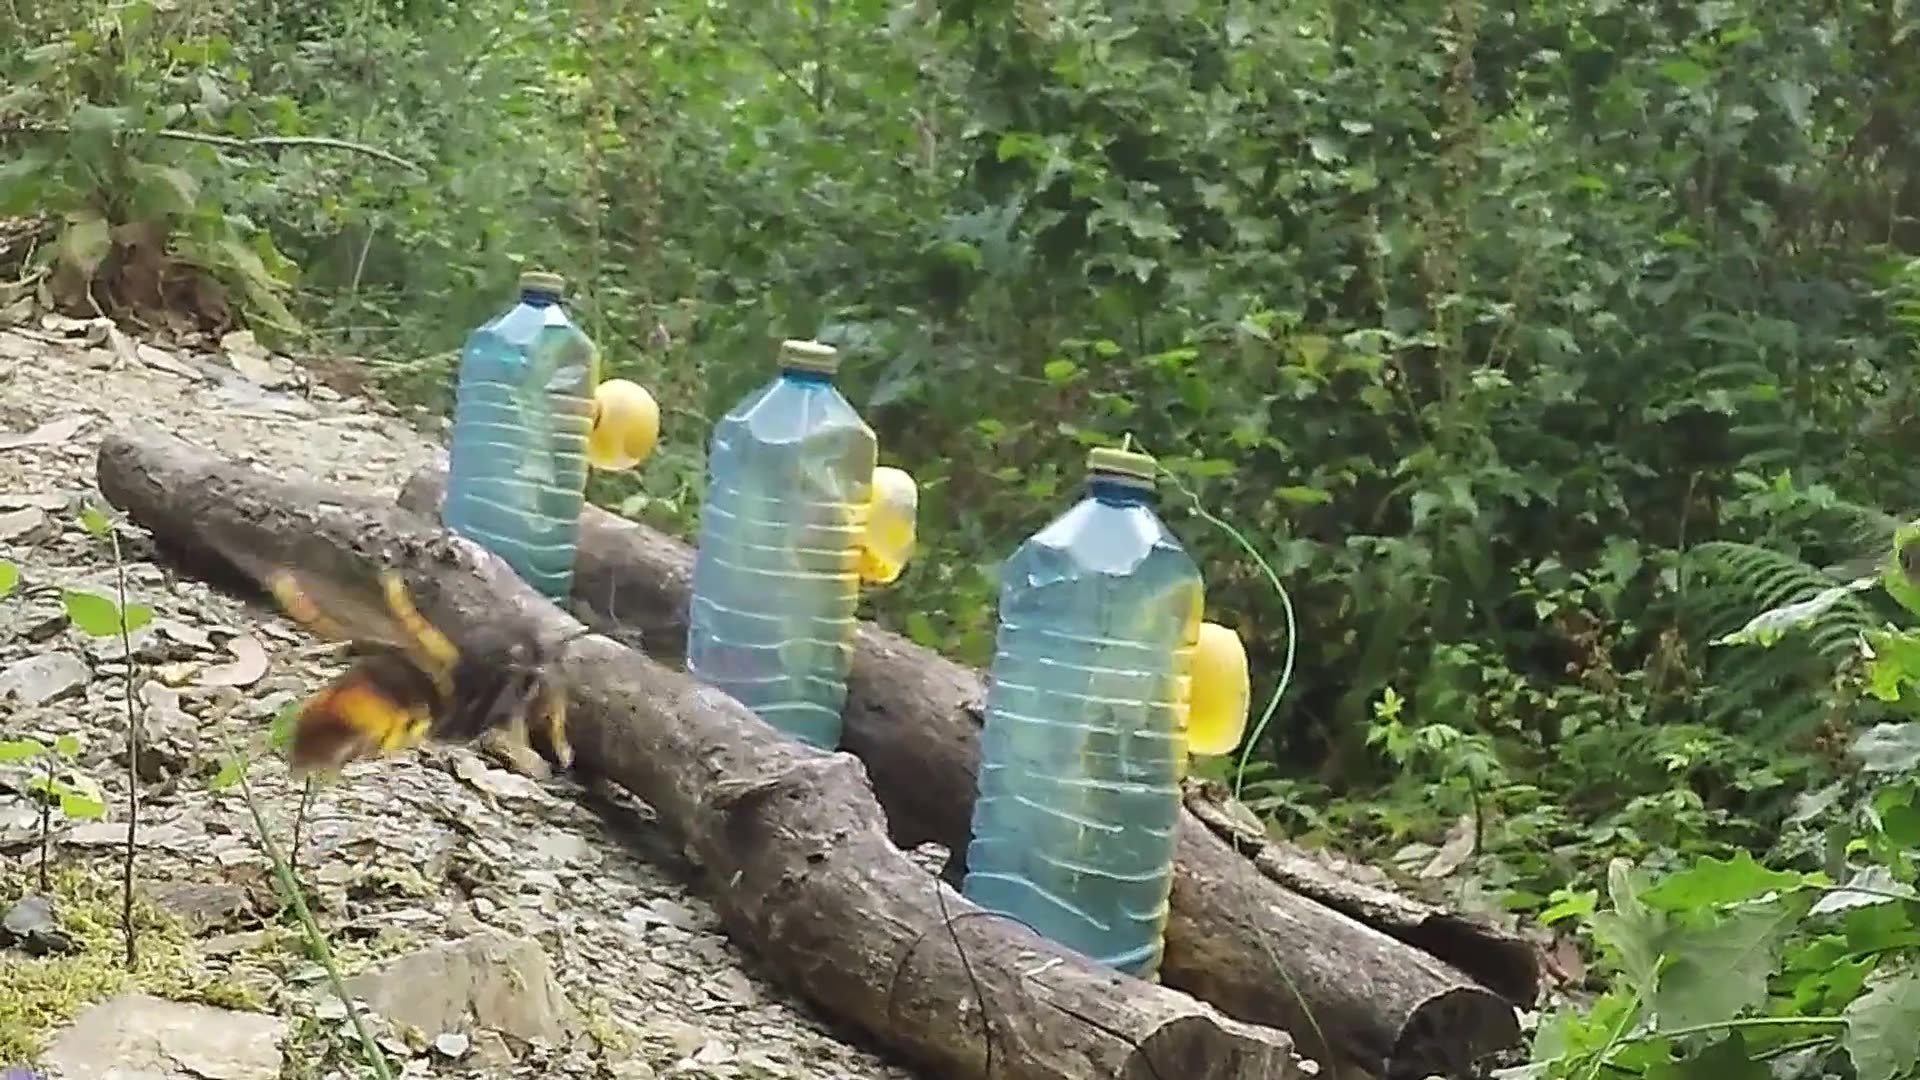hornet: (280, 601, 588, 810)
